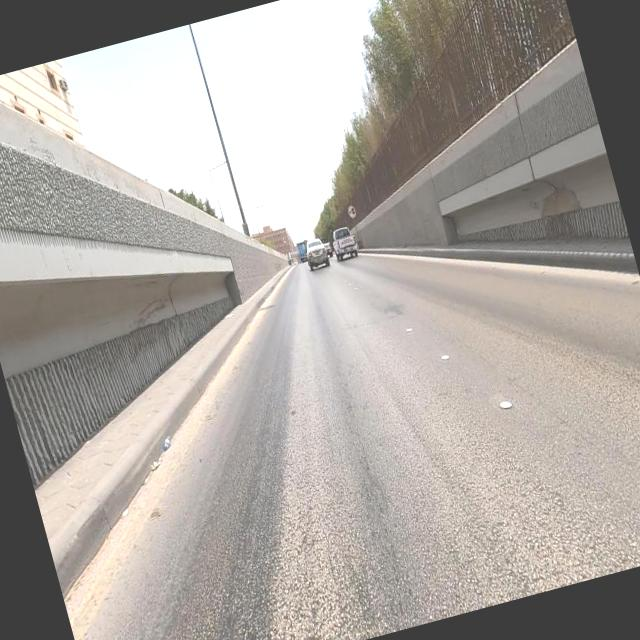debris: (142, 404, 192, 482)
